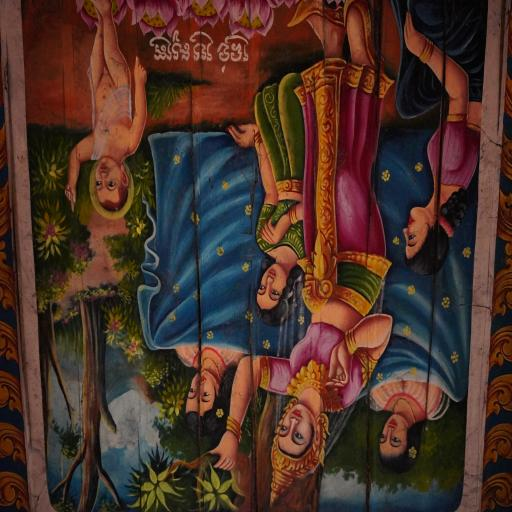than: (213, 1, 419, 512), (144, 110, 321, 430), (365, 115, 480, 486), (383, 0, 487, 291), (230, 72, 327, 365), (56, 0, 170, 243)
